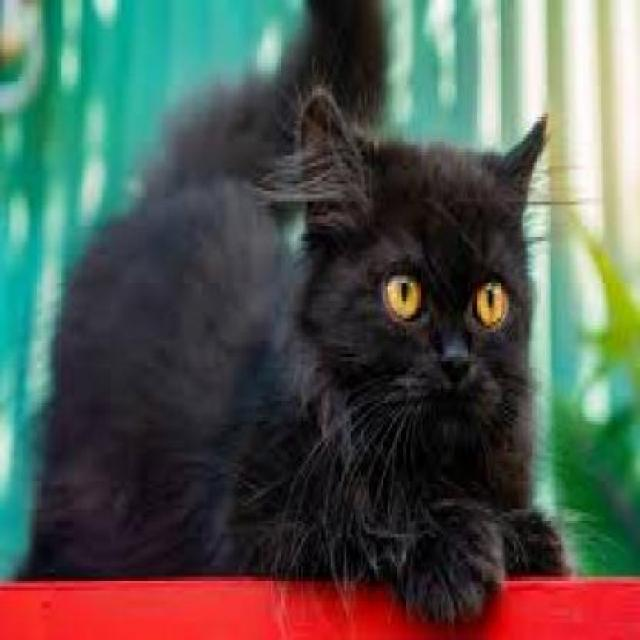animals: (30, 78, 572, 587)
